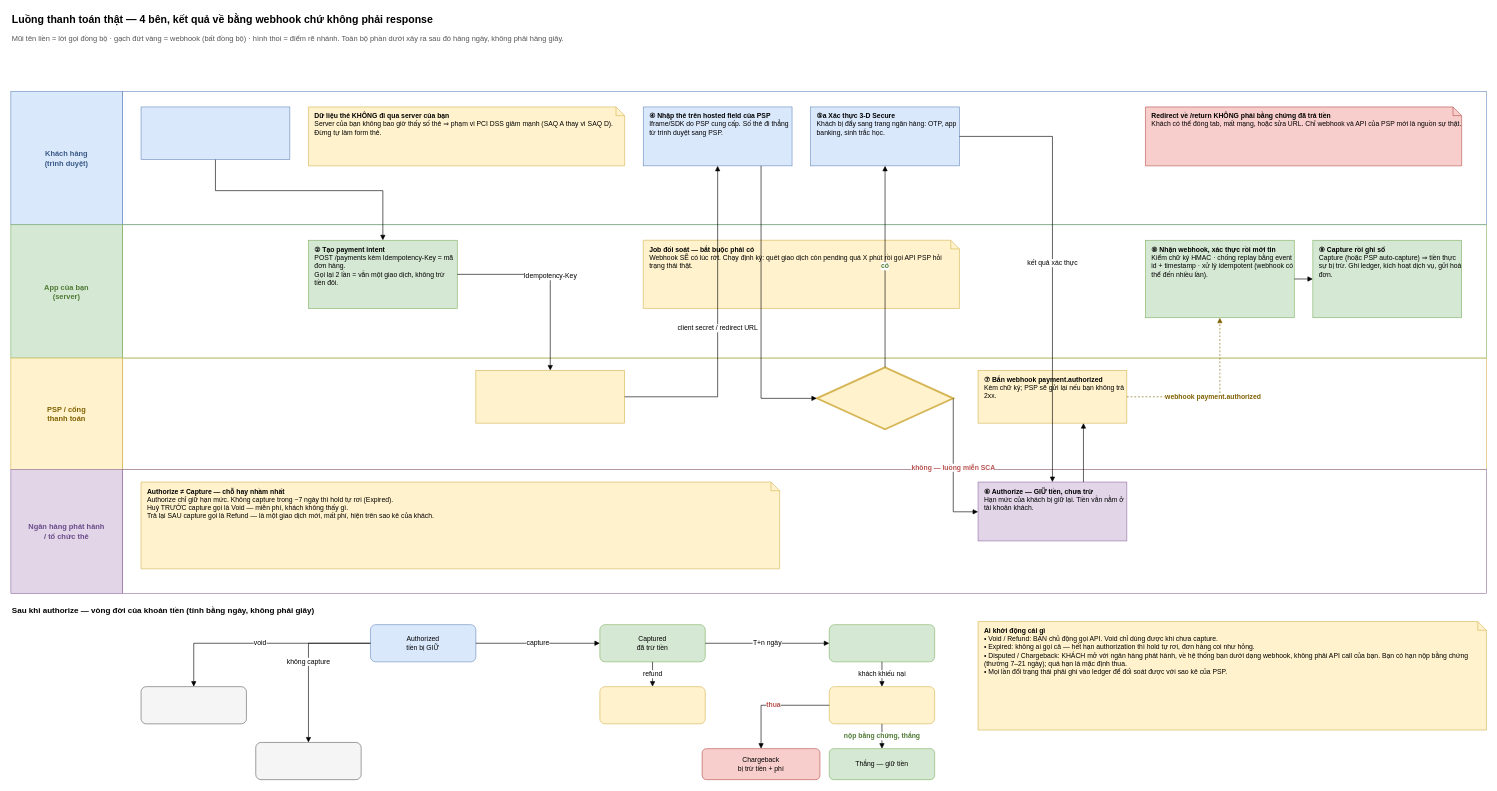
This 1497x791 diagram has some shape labels left out. Here are the shapes that lost their labels. From the top down, the box of each, then its label:
(140, 106, 290, 160): ① Khách bấm "Thanh toán" Đặt hàng xong, bắt đầu trả tiền.
(475, 370, 625, 423): ③ PSP tạo giao dịch Trả về client secret / redirect URL cho trình duyệt.
(816, 366, 954, 430): ⑤ Cần 3-D Secure (SCA) ?
(829, 624, 935, 662): Settled tiền về, trừ phí (T+n)
(140, 686, 246, 724): Voided huỷ trước capture
(599, 686, 705, 724): Refunded (toàn phần / một phần)
(829, 686, 935, 724): Disputed khách mở tranh chấp
(255, 742, 361, 780): Expired hold tự rơi (~7 ngày)
